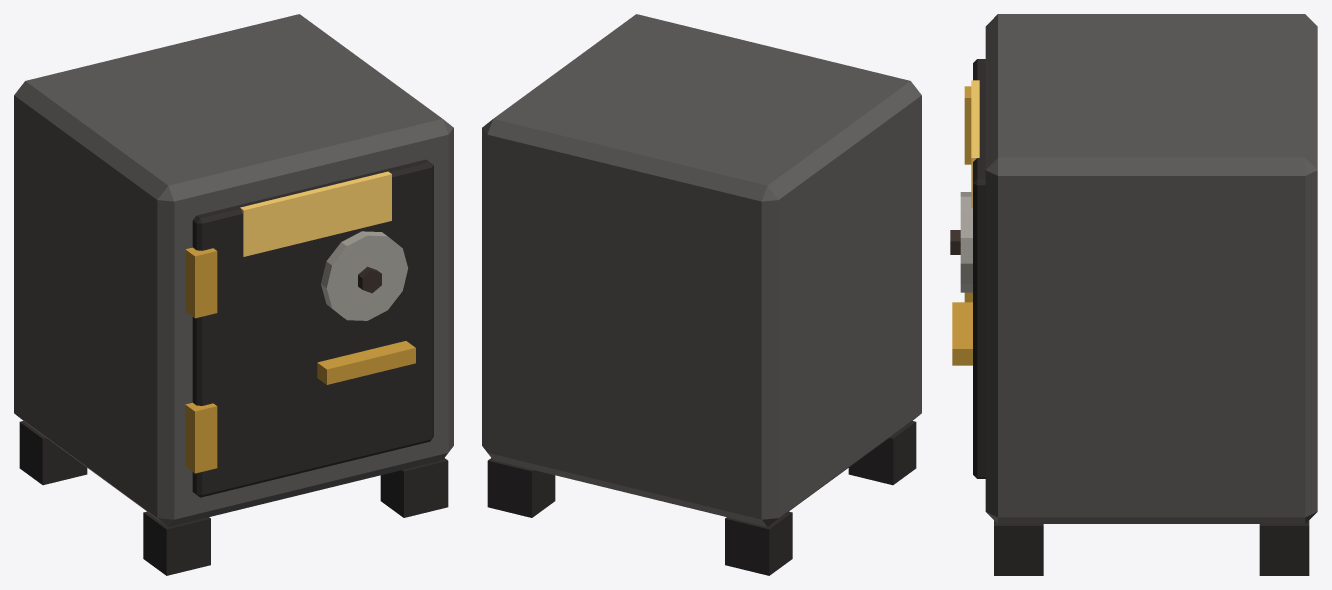
Rendered from Safe.fbx.
3 renders of one model, left to right at view 1: azimuth 30°, elevation 25°; view 2: azimuth 150°, elevation 25°; view 3: azimuth 270°, elevation 25°, orthographic. The views are drawn at different scales.
Visible parts, largest first — view 1: Safe; view 2: Safe; view 3: Safe.
Boxes of the visible parts, bbox=[...] form: Safe: bbox=[14, 14, 453, 575]; Safe: bbox=[482, 14, 921, 575]; Safe: bbox=[950, 14, 1317, 575].
Bounding box in the file's own units: 4 × 5 × 4.
